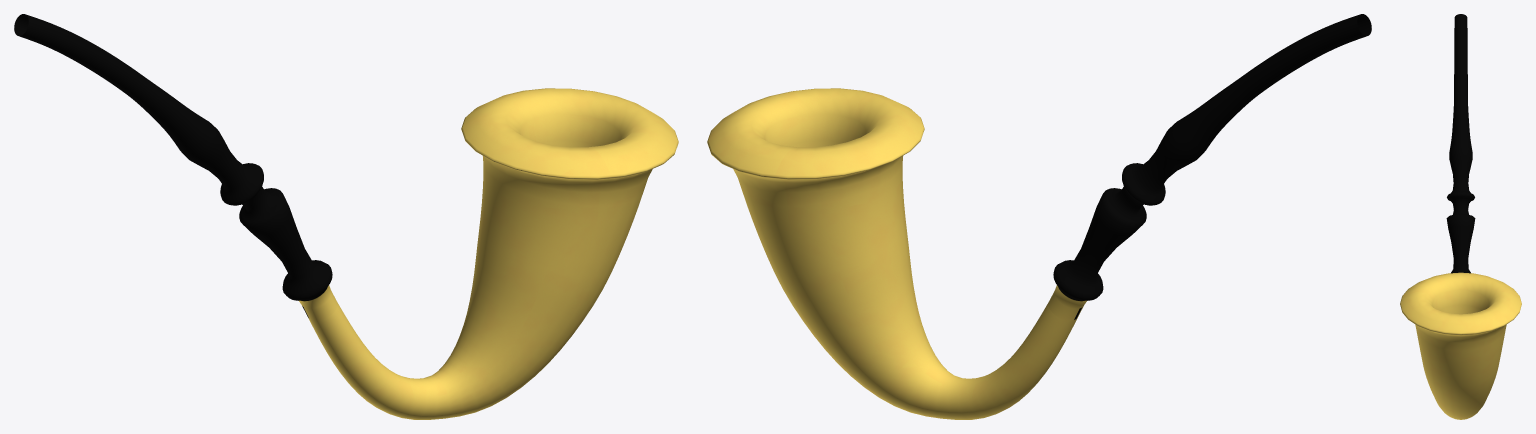
Rendered from Pipe.fbx.
3 renders of one model, left to right at view 1: azimuth 30°, elevation 25°; view 2: azimuth 150°, elevation 25°; view 3: azimuth 270°, elevation 25°, orthographic. The views are drawn at different scales.
Visible parts, largest first — view 1: Pipe; view 2: Pipe; view 3: Pipe.
Boxes of the visible parts, x1,y1,x2,y2 form: Pipe: (14,14,678,419); Pipe: (707,14,1371,419); Pipe: (1400,14,1521,419).
Bounding box in the file's own units: 422 × 123 × 314.
Materials: 1 (1 with a texture image).
